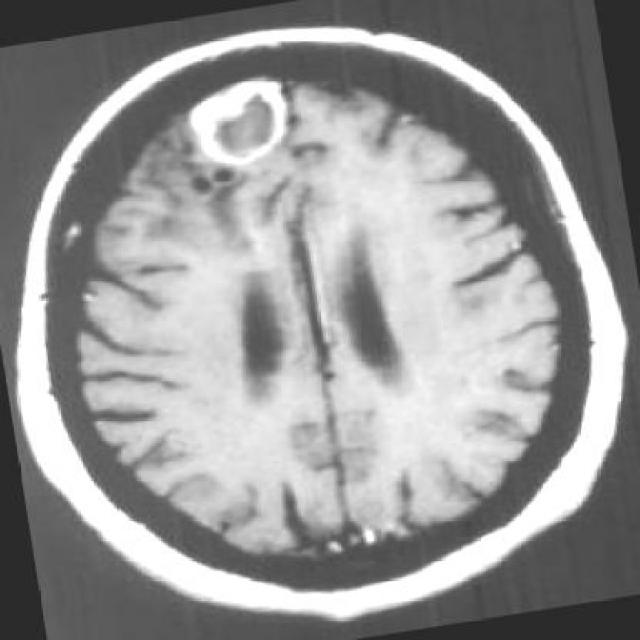Brain-Tumor: (182, 66, 294, 172)
